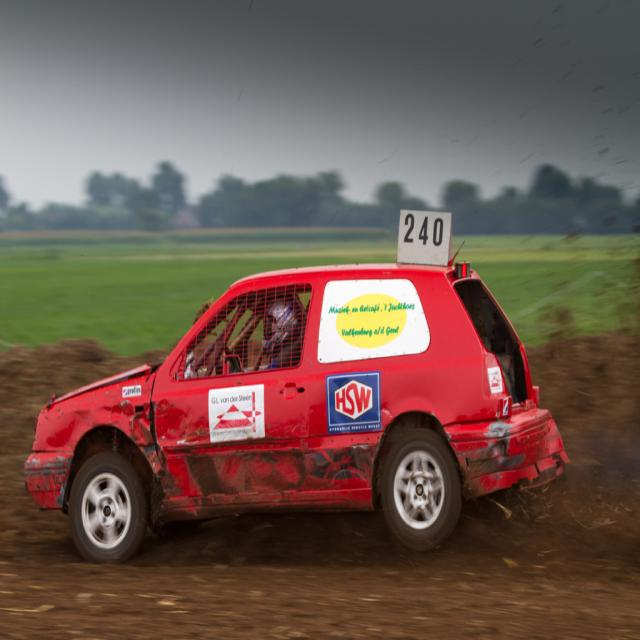car: (22, 243, 567, 569)
